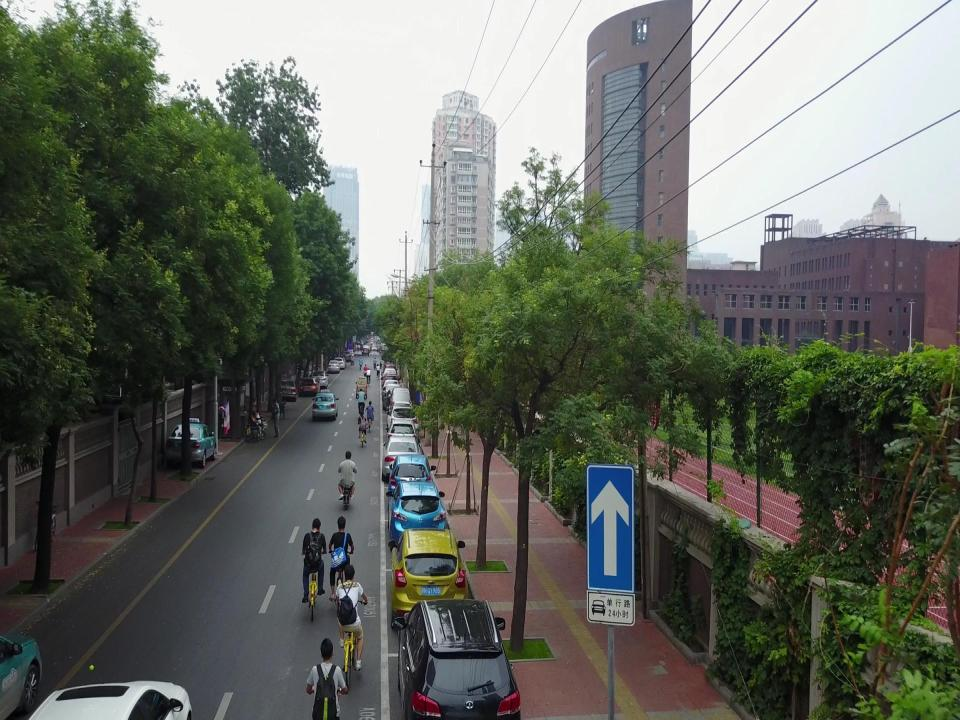car: (391, 597, 525, 720), (388, 527, 470, 633), (22, 678, 192, 720), (386, 481, 449, 553), (0, 632, 45, 720), (164, 417, 216, 468), (388, 454, 436, 509), (382, 435, 422, 484), (385, 418, 419, 452), (386, 401, 420, 434), (312, 389, 339, 421), (382, 390, 410, 412), (277, 379, 297, 401), (298, 377, 320, 396), (382, 379, 402, 398), (380, 373, 400, 391), (311, 370, 329, 387), (327, 360, 339, 372), (333, 356, 345, 368)
van: (388, 386, 412, 417), (382, 384, 406, 409), (381, 367, 398, 388)
